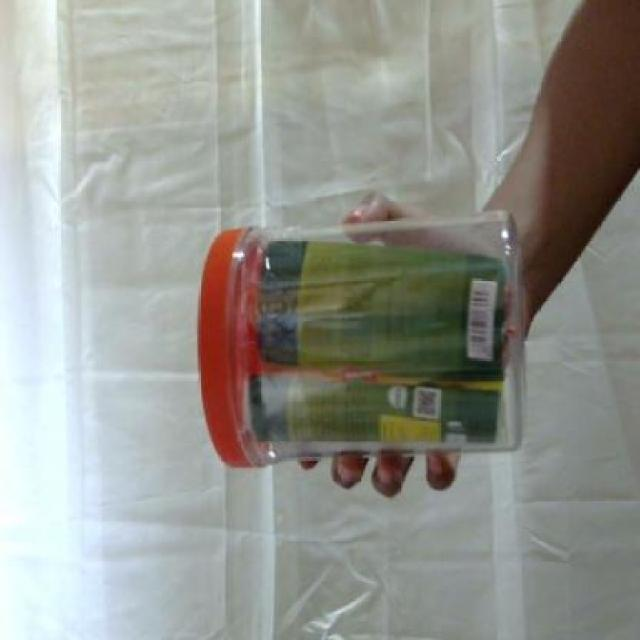Plastic: (198, 209, 527, 471)
